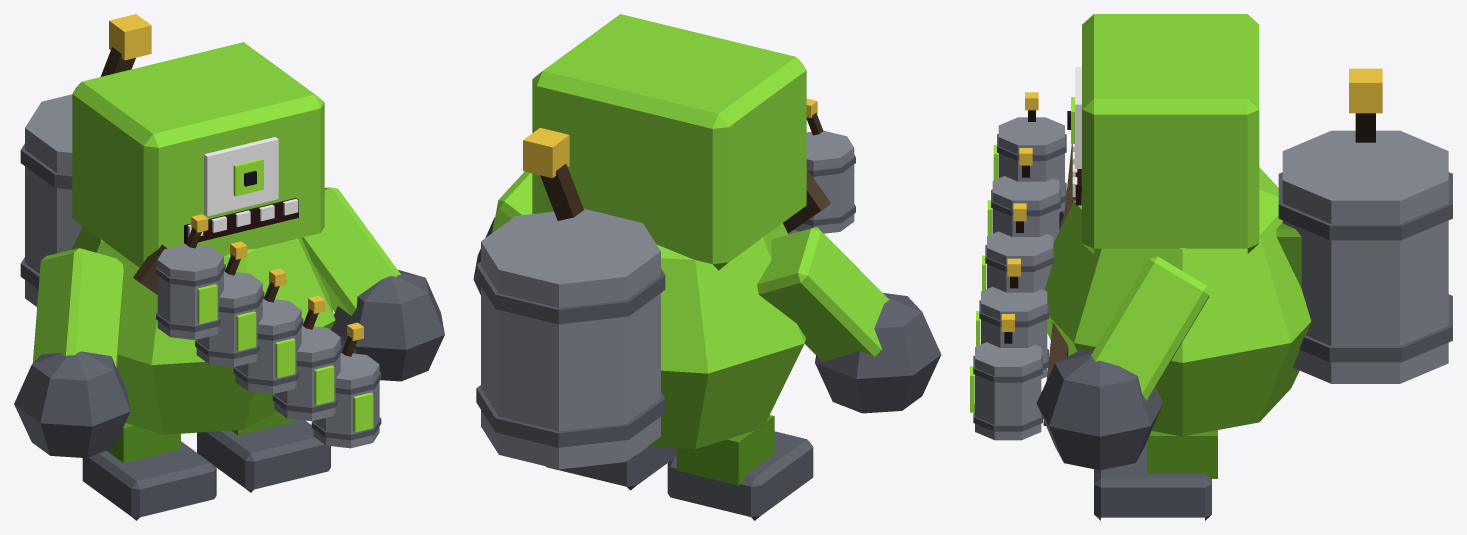
Rendered from r11_mini_barrel_bomber.glb.
3 renders of one model, left to right at view 1: azimuth 30°, elevation 25°; view 2: azimuth 150°, elevation 25°; view 3: azimuth 270°, elevation 25°, orthographic. The views are drawn at different scales.
Visible parts, largest first — view 1: r11_mini_barrel_bomber_mesh; view 2: r11_mini_barrel_bomber_mesh; view 3: r11_mini_barrel_bomber_mesh.
Part boxes in pixels (<box>): r11_mini_barrel_bomber_mesh: <box>14,14,444,520</box>; r11_mini_barrel_bomber_mesh: <box>473,14,941,520</box>; r11_mini_barrel_bomber_mesh: <box>970,14,1452,520</box>.
Bounding box in the file's own units: 4.04 × 3.6 × 3.8.
Materials: 1 (1 with a texture image).
